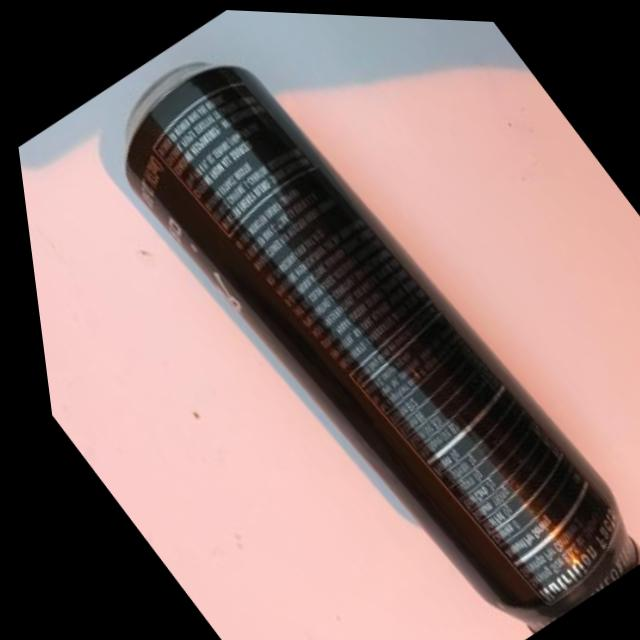metal: (28, 1, 640, 640)
